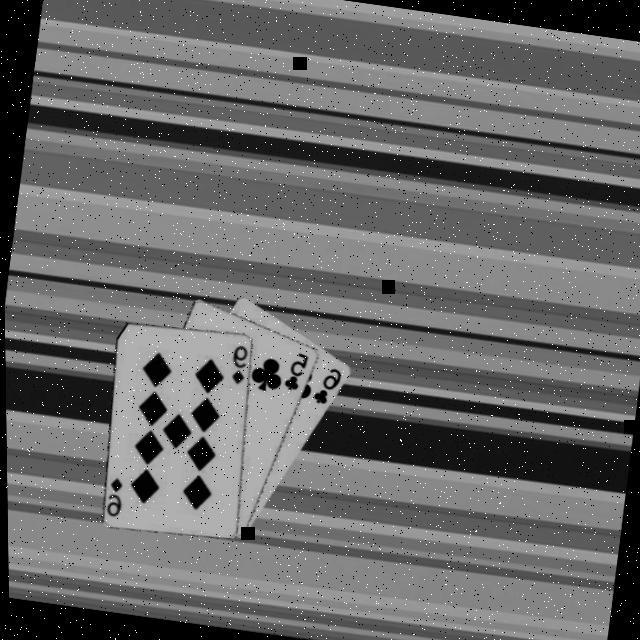5C: (280, 350, 312, 397)
6C: (308, 365, 346, 411)
9D: (226, 343, 252, 389), (102, 476, 128, 522)
